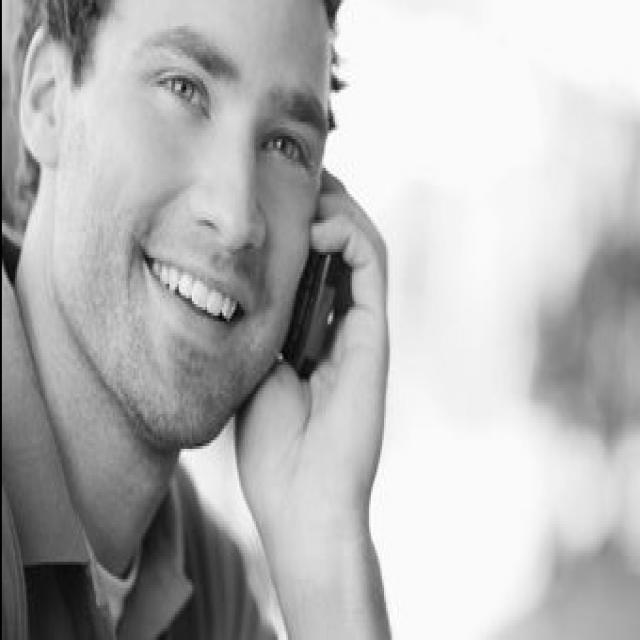phone: (237, 84, 388, 455)
